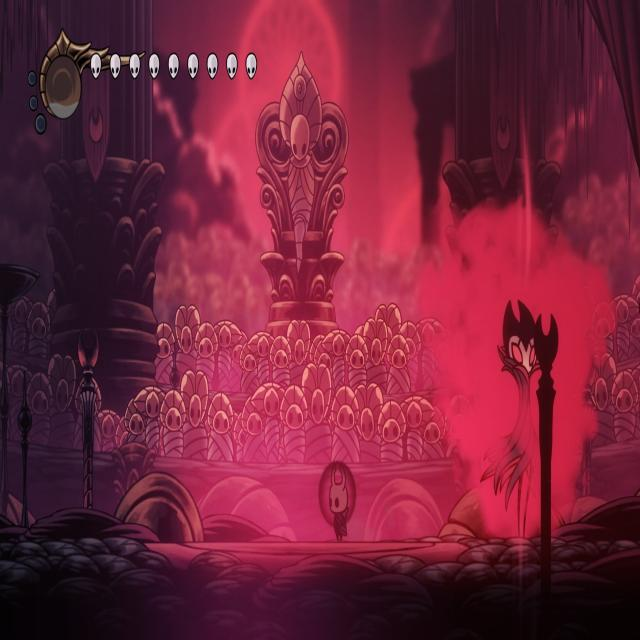Grimm: (478, 291, 543, 537)
Player: (321, 456, 359, 544)
